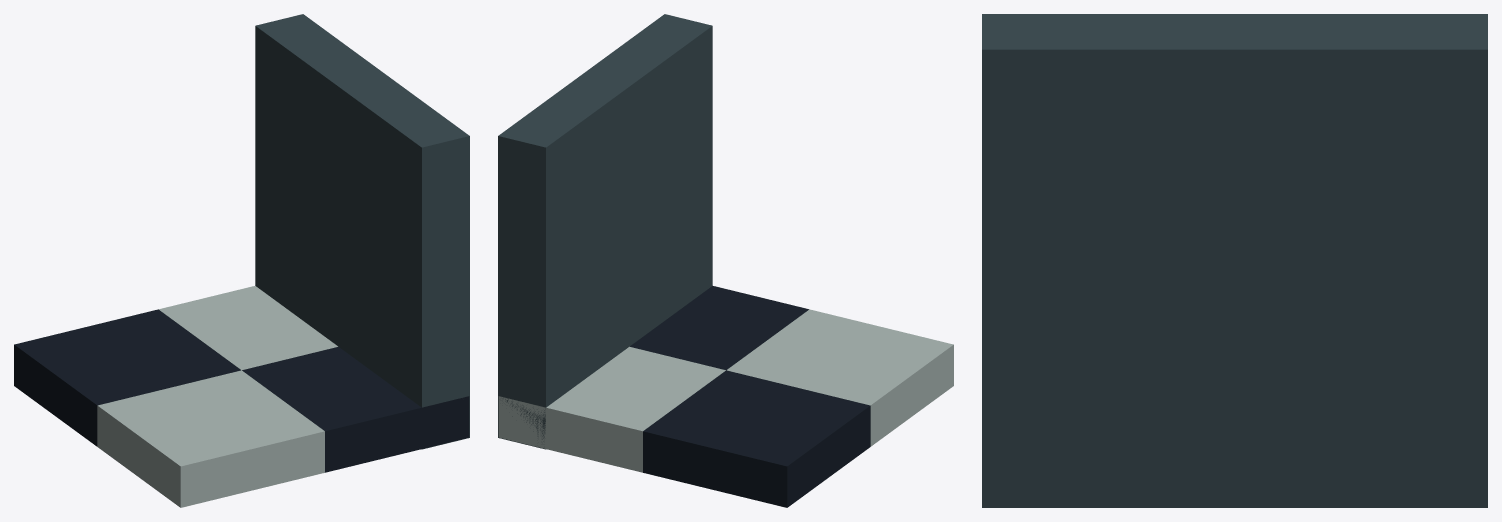
File: floor_edge.gltf
3 renders of one model, left to right at view 1: azimuth 30°, elevation 25°; view 2: azimuth 150°, elevation 25°; view 3: azimuth 270°, elevation 25°, orthographic. The views are drawn at different scales.
Parts seen in each view (by area): view 1: Floor_Edge; view 2: Floor_Edge; view 3: Floor_Edge.
Part boxes in pixels (bbox=[...]): Floor_Edge: bbox=[14, 14, 469, 507]; Floor_Edge: bbox=[498, 14, 953, 507]; Floor_Edge: bbox=[982, 14, 1487, 507].
Size of the model in its own units: 2 by 2 by 2.
1 material, 1 textured.
